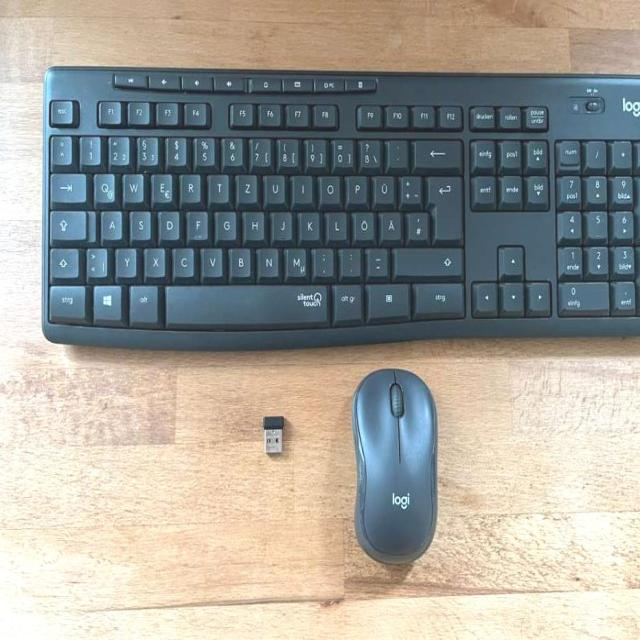0: (330, 134, 352, 166)
1: (77, 131, 99, 162)
2: (105, 131, 128, 162)
3: (134, 132, 156, 164)
4: (164, 132, 186, 163)
5: (192, 133, 214, 164)
6: (220, 133, 242, 164)
7: (247, 133, 270, 165)
8: (275, 134, 297, 166)
9: (302, 134, 324, 166)
a: (98, 207, 120, 238)
accent: (384, 135, 406, 165)
ae: (378, 208, 400, 239)
alt-left: (127, 281, 157, 320)
altgr-right: (331, 280, 361, 319)
b: (227, 243, 249, 274)
c: (171, 243, 193, 274)
caret: (48, 131, 71, 162)
comma: (311, 243, 333, 274)
d: (156, 207, 178, 238)
del: (412, 136, 460, 166)
e: (148, 169, 171, 200)
enter: (425, 172, 460, 239)
f: (185, 206, 207, 237)
g: (213, 207, 235, 238)
h: (241, 207, 263, 238)
hash: (405, 208, 427, 239)
i: (290, 170, 311, 201)
j: (270, 207, 290, 238)
k: (297, 207, 319, 238)
keyboard: (36, 64, 640, 350)
l: (324, 207, 345, 238)
less: (83, 243, 106, 275)
m: (282, 243, 305, 274)
minus: (364, 243, 386, 274)
n: (255, 243, 277, 274)
o: (317, 171, 339, 202)
oe: (351, 208, 373, 239)
p: (344, 171, 365, 201)
plus: (397, 171, 419, 203)
point: (338, 244, 359, 273)
q: (91, 169, 114, 201)
r: (177, 170, 199, 200)
s: (127, 207, 149, 238)
shift-left: (47, 245, 77, 276)
shift-lock: (48, 208, 85, 239)
shift-right: (392, 243, 461, 274)
space: (162, 280, 328, 324)
ss: (356, 135, 379, 167)
strg-left: (46, 281, 84, 317)
strg-right: (412, 278, 464, 314)
t: (207, 170, 227, 200)
tab: (48, 169, 85, 201)
u: (262, 170, 284, 201)
ue: (371, 171, 393, 202)
v: (199, 243, 221, 274)
w: (120, 169, 142, 200)
x: (142, 243, 164, 274)
y: (113, 243, 135, 275)
z: (234, 170, 256, 201)
